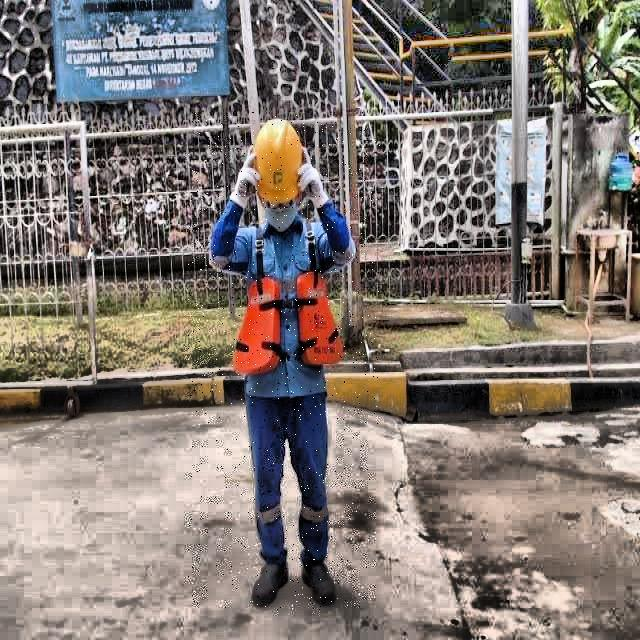safety_helmet: (256, 120, 302, 201)
safety_jacket: (232, 272, 345, 377)
